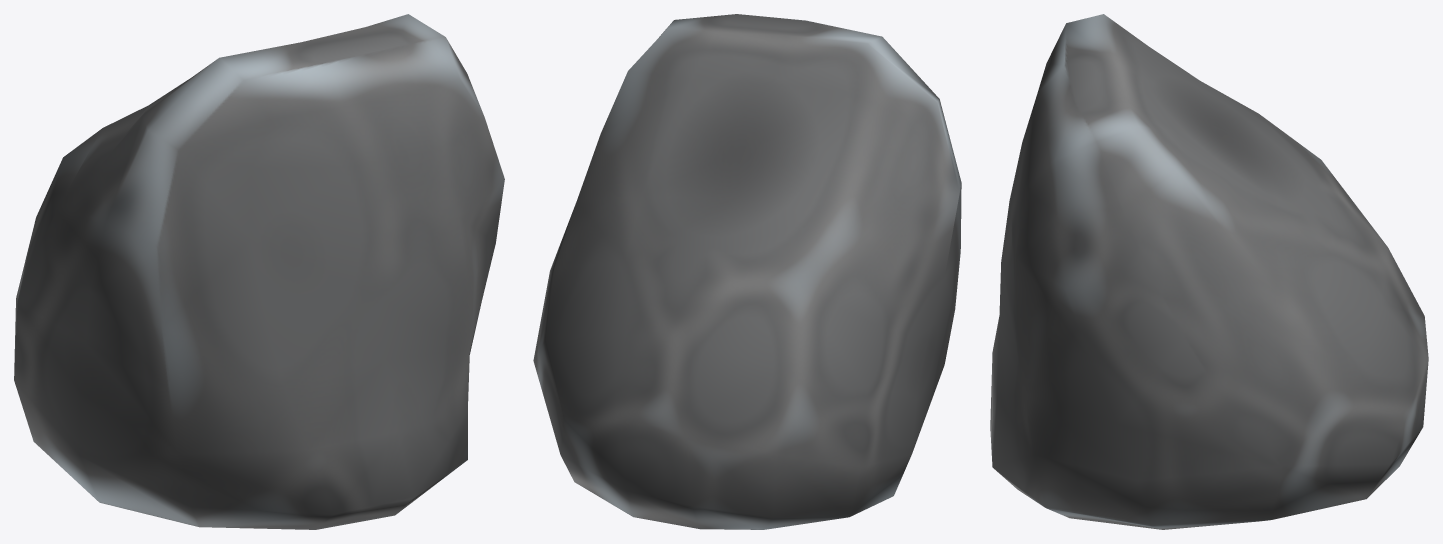
Rendered from rock_1.fbx.
The picture shows the model from 3 angles, left to right: view 1: azimuth 30°, elevation 25°; view 2: azimuth 150°, elevation 25°; view 3: azimuth 270°, elevation 25°; orthographic projection. The views are drawn at different scales.
Visible parts, largest first — view 1: rock1_low; view 2: rock1_low; view 3: rock1_low.
Part boxes in pixels (left/top/right/bottom): rock1_low: left=14, top=14, right=504, bottom=529; rock1_low: left=533, top=14, right=961, bottom=529; rock1_low: left=990, top=14, right=1428, bottom=529.
Size of the model in its own units: 21.23 by 23.33 by 21.91.
Materials: 1 (1 with a texture image).
